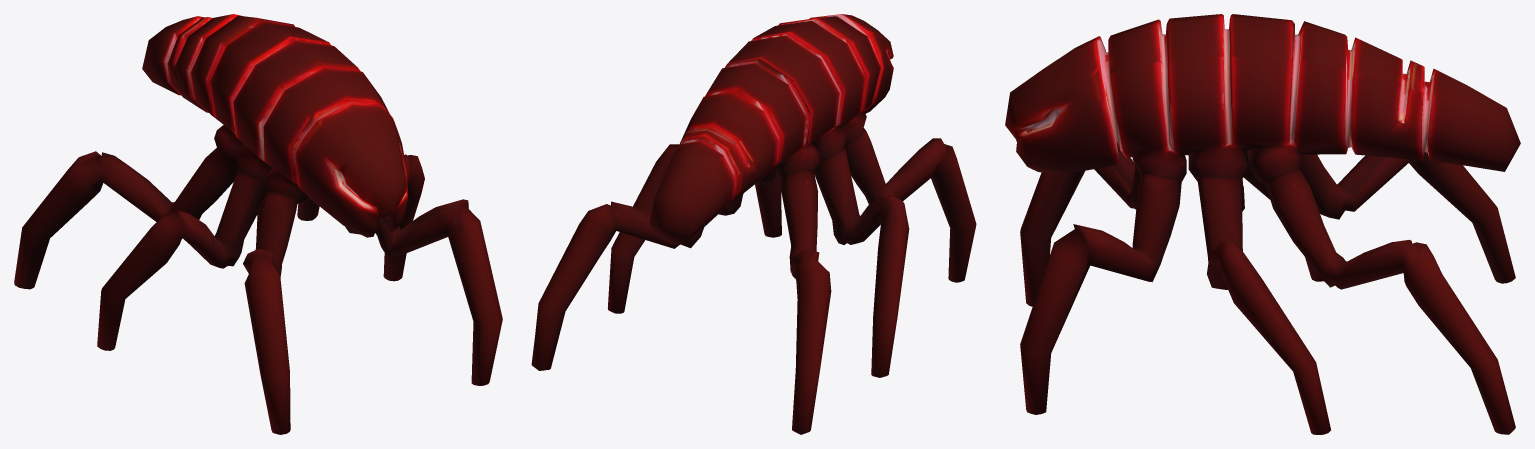
File: monster_fast.glb
3 renders of one model, left to right at view 1: azimuth 30°, elevation 25°; view 2: azimuth 150°, elevation 25°; view 3: azimuth 270°, elevation 25°, orthographic. The views are drawn at different scales.
Parts seen in each view (by area): view 1: mesh_rep_0_ori_repair_quad; view 2: mesh_rep_0_ori_repair_quad; view 3: mesh_rep_0_ori_repair_quad.
Part boxes in pixels (x1,y1,x2,y2): mesh_rep_0_ori_repair_quad: [14, 14, 502, 434]; mesh_rep_0_ori_repair_quad: [531, 14, 976, 434]; mesh_rep_0_ori_repair_quad: [1005, 14, 1520, 434].
Bounding box in the file's own units: 65.3 × 62.64 × 85.63.
Materials: 1 (1 with a texture image).
